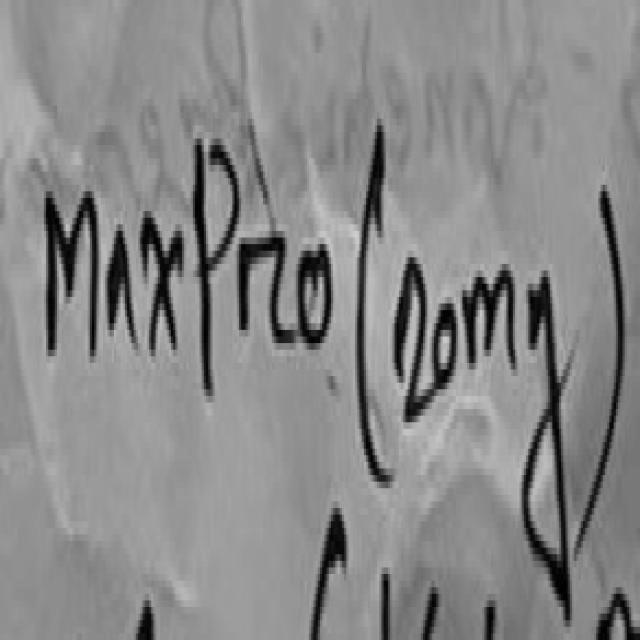0: (434, 304, 460, 386)
2: (395, 257, 434, 419)
M: (48, 191, 100, 352)
a: (107, 231, 138, 352)
g: (521, 271, 572, 621)
m: (461, 263, 517, 374)
o: (299, 244, 333, 347)
p: (196, 141, 239, 393)
r: (239, 238, 296, 340)
x: (142, 218, 184, 364)
